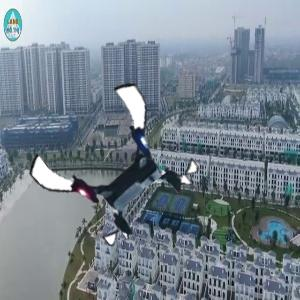drone: (42, 97, 186, 241)
